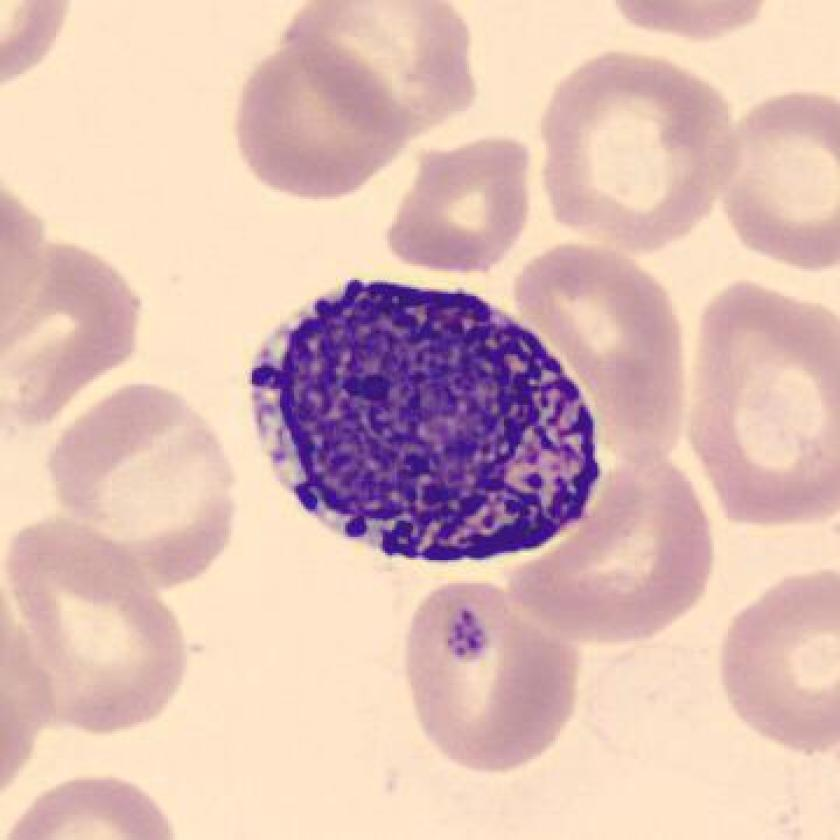basophil: (235, 249, 620, 580)
